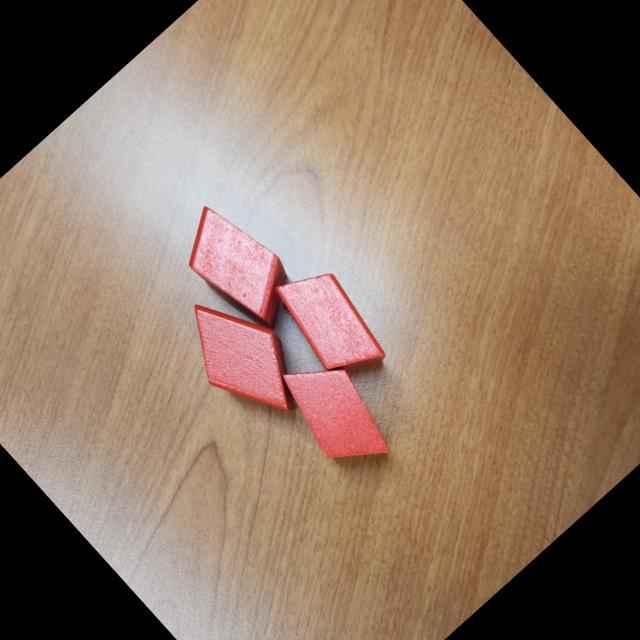red: (160, 276, 324, 444), (164, 189, 310, 340), (263, 339, 408, 489), (260, 251, 400, 394)
